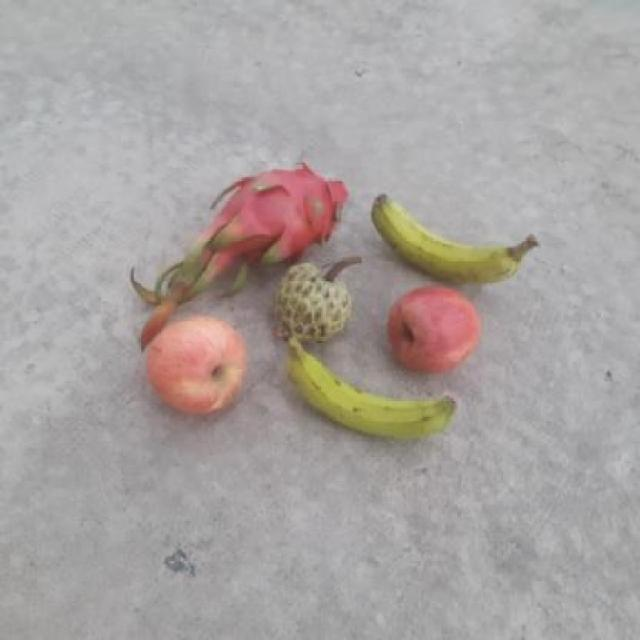apple: (138, 314, 255, 418)
banana: (285, 346, 464, 442), (374, 198, 524, 285), (381, 285, 494, 380)
dragon fruit: (220, 166, 354, 257)
sugar apple: (272, 261, 356, 341)
